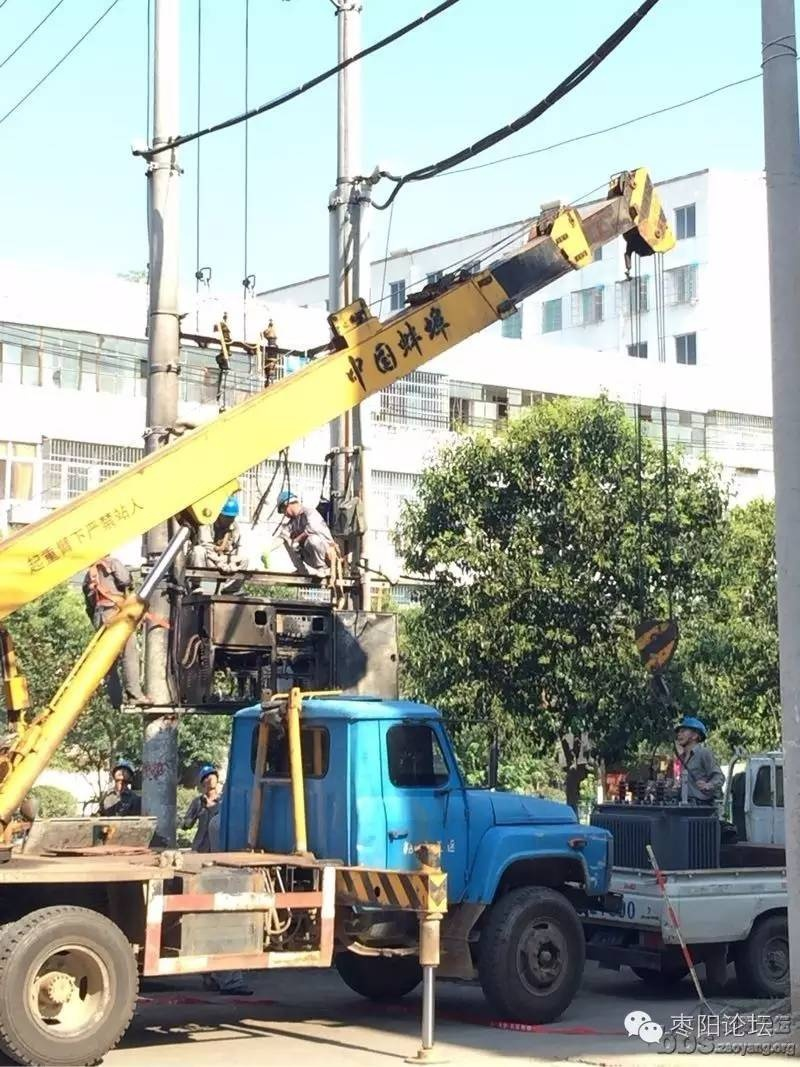blue: (674, 715, 708, 749), (216, 497, 238, 528), (196, 765, 220, 791), (112, 760, 136, 785), (275, 489, 296, 517)
